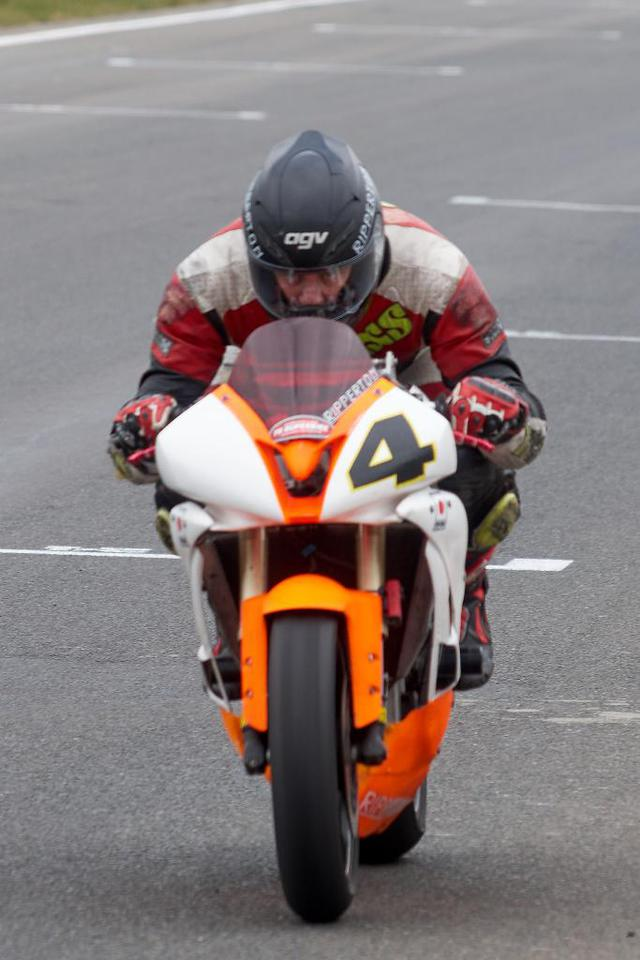helmet: (241, 125, 393, 330)
